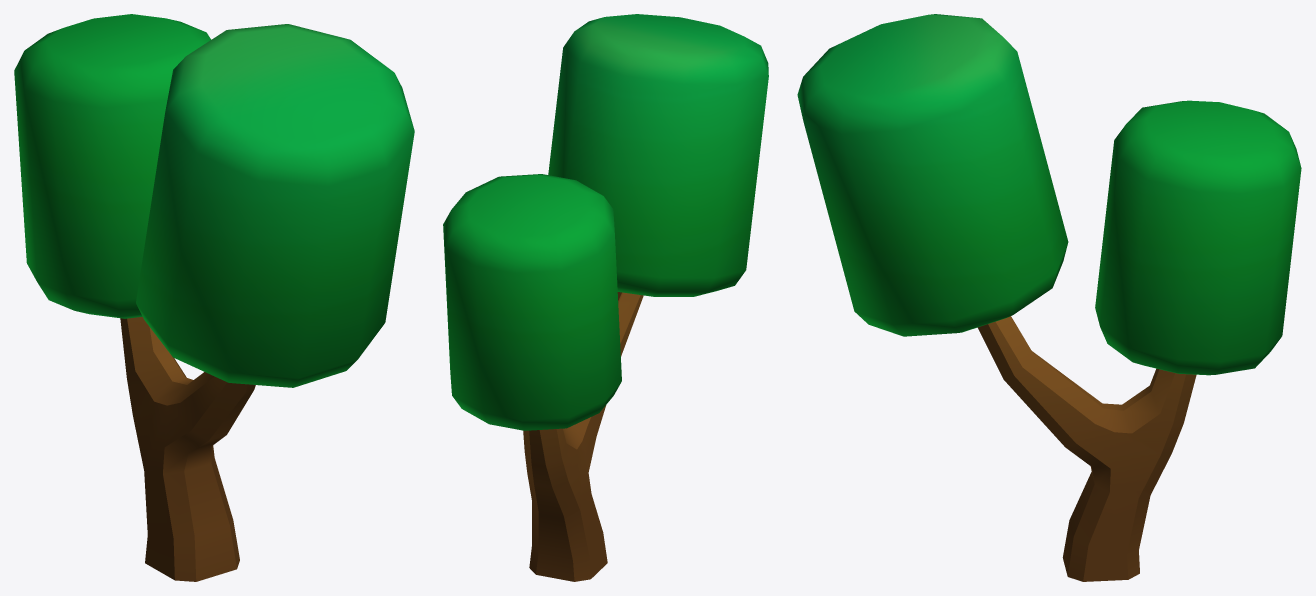
Rendered from Tree_F_2_.fbx.
3 views of the same model, side by side, from view 1: azimuth 30°, elevation 25°; view 2: azimuth 150°, elevation 25°; view 3: azimuth 270°, elevation 25° (orthographic). The views are drawn at different scales.
Visible parts, largest first — view 1: Tree_F_2; view 2: Tree_F_2; view 3: Tree_F_2.
Boxes of the visible parts, x1=… form: Tree_F_2: x1=14, y1=14, x2=414, y2=581; Tree_F_2: x1=443, y1=14, x2=768, y2=581; Tree_F_2: x1=797, y1=14, x2=1301, y2=581.
Size of the model in its own units: 169 by 431 by 376.
